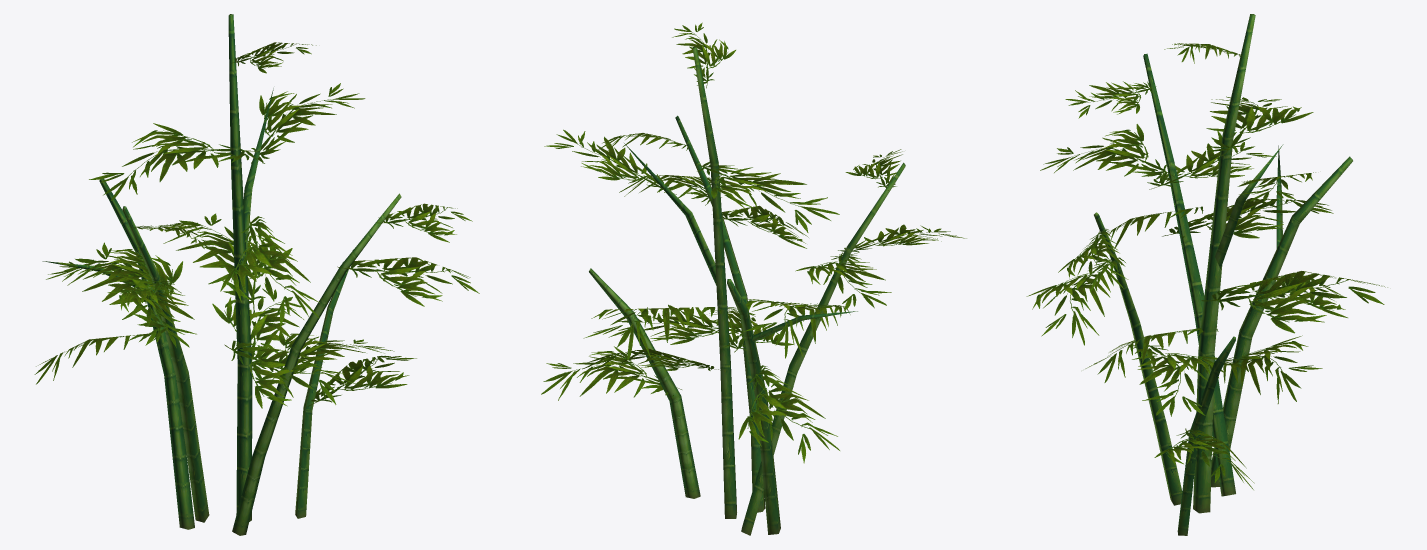
Rendered from environment_Tree_zhuzi_001_a.FBX.
The picture shows the model from 3 angles, left to right: view 1: azimuth 30°, elevation 25°; view 2: azimuth 150°, elevation 25°; view 3: azimuth 270°, elevation 25°; orthographic projection. The views are drawn at different scales.
Parts seen in each view (by area): view 1: environment_Tree_zhuzi_001_a01, environment_Tree_zhuzi_001_a02; view 2: environment_Tree_zhuzi_001_a01, environment_Tree_zhuzi_001_a02; view 3: environment_Tree_zhuzi_001_a01, environment_Tree_zhuzi_001_a02.
Boxes of the visible parts, x1,y1,x2,y2 form: environment_Tree_zhuzi_001_a01: (34, 42, 479, 408); environment_Tree_zhuzi_001_a02: (42, 14, 401, 535); environment_Tree_zhuzi_001_a01: (541, 22, 966, 463); environment_Tree_zhuzi_001_a02: (589, 47, 905, 535); environment_Tree_zhuzi_001_a01: (1026, 43, 1387, 489); environment_Tree_zhuzi_001_a02: (1094, 14, 1352, 535).
Bounding box in the file's own units: 404 × 501 × 367.
Materials: 2 (2 with a texture image).
